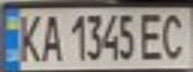1: (63, 11, 87, 62)
3: (84, 11, 106, 61)
4: (103, 10, 121, 61)
5: (118, 10, 139, 61)
A: (36, 11, 66, 63)
C: (157, 9, 193, 61)
E: (136, 10, 169, 61)
K: (12, 11, 45, 63)
